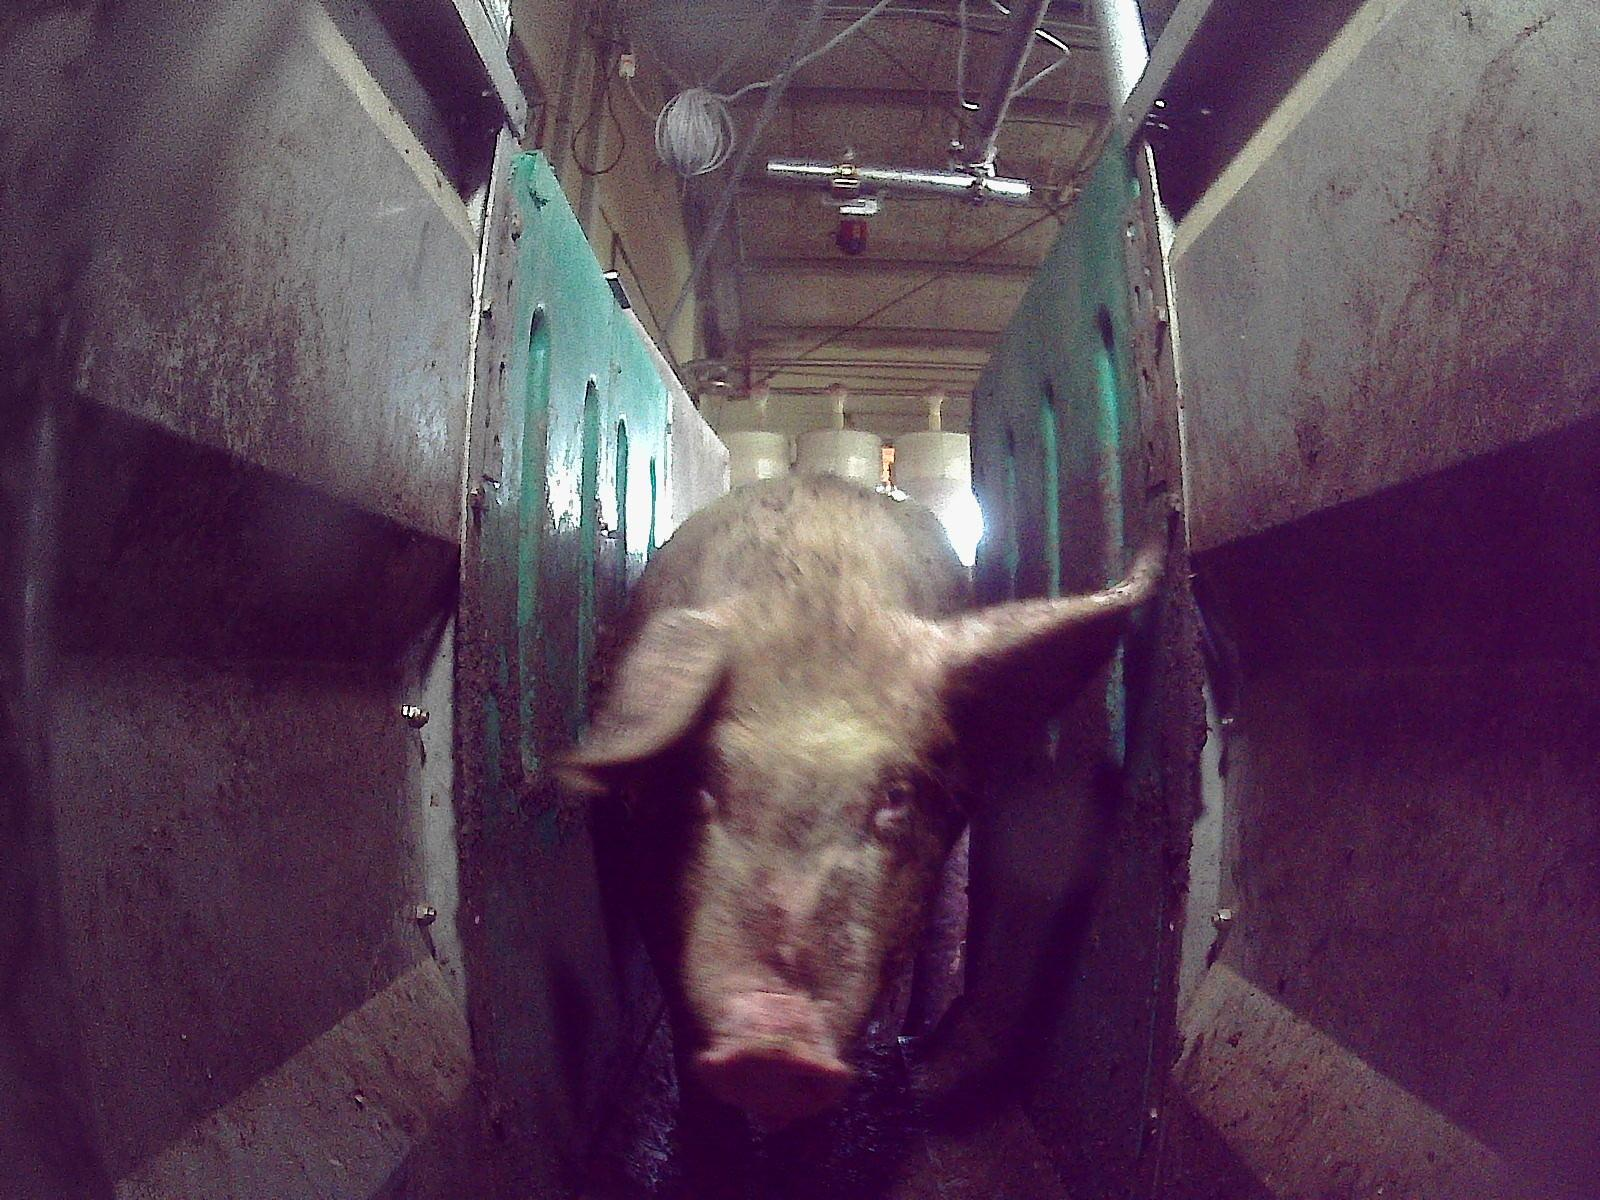Face: (660, 592, 949, 1117)
